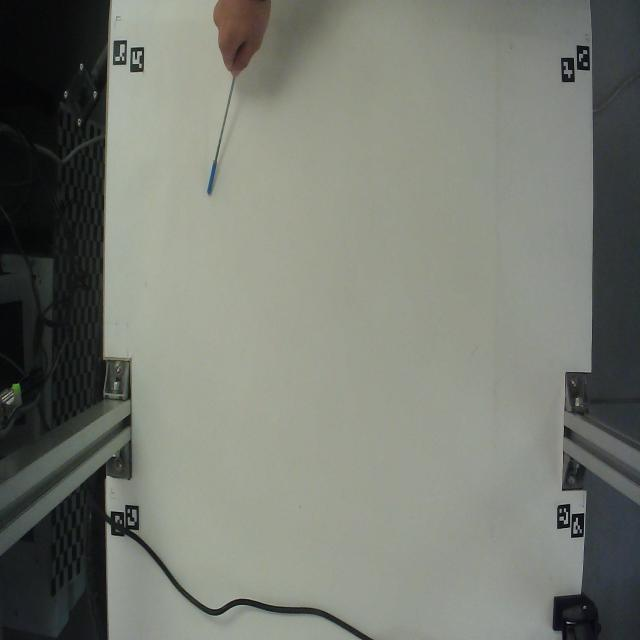Pres: (198, 73, 248, 206)
